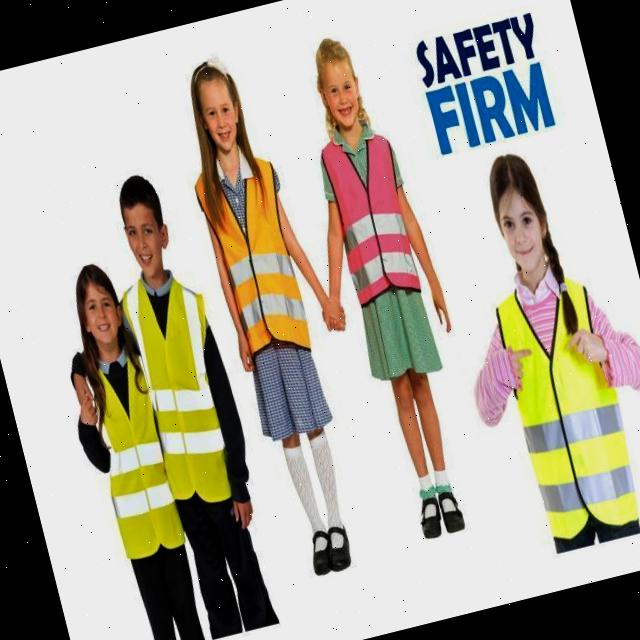vest: (482, 275, 640, 549), (128, 267, 255, 514), (188, 159, 314, 367), (80, 352, 188, 564), (316, 130, 426, 307)
